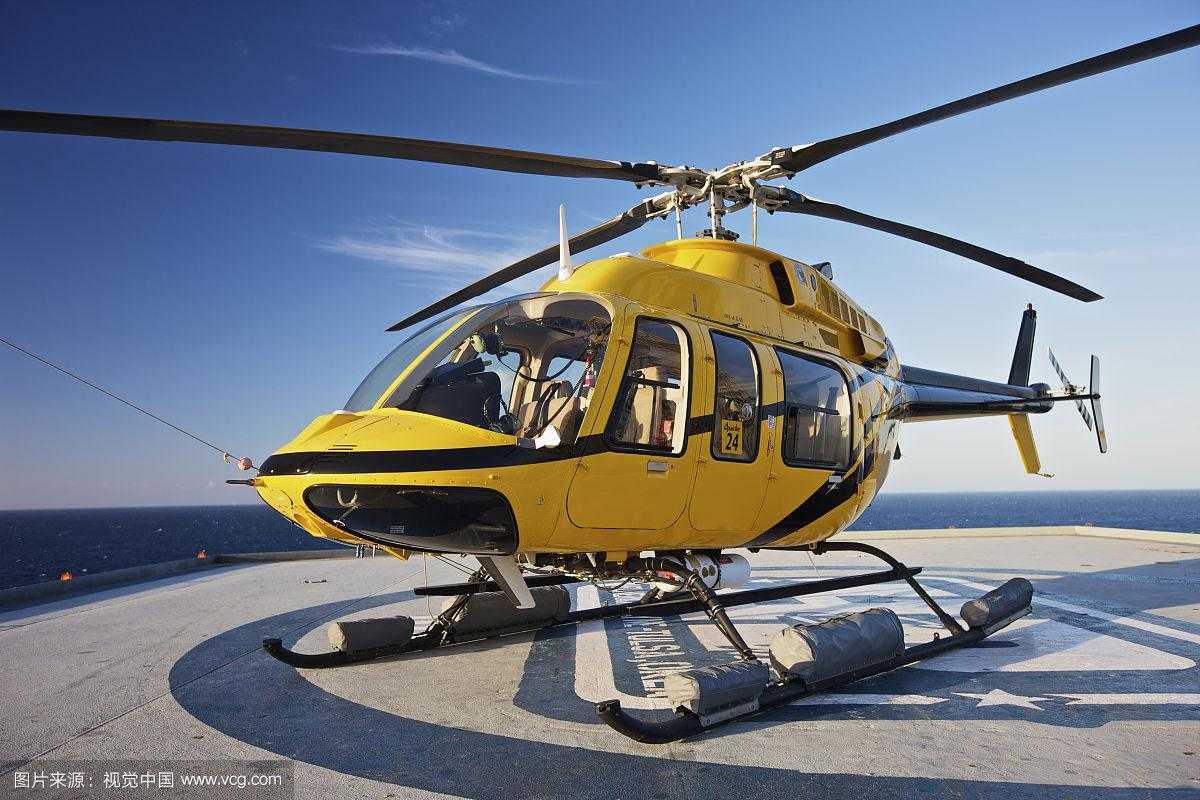airplane: (20, 14, 1200, 745)
